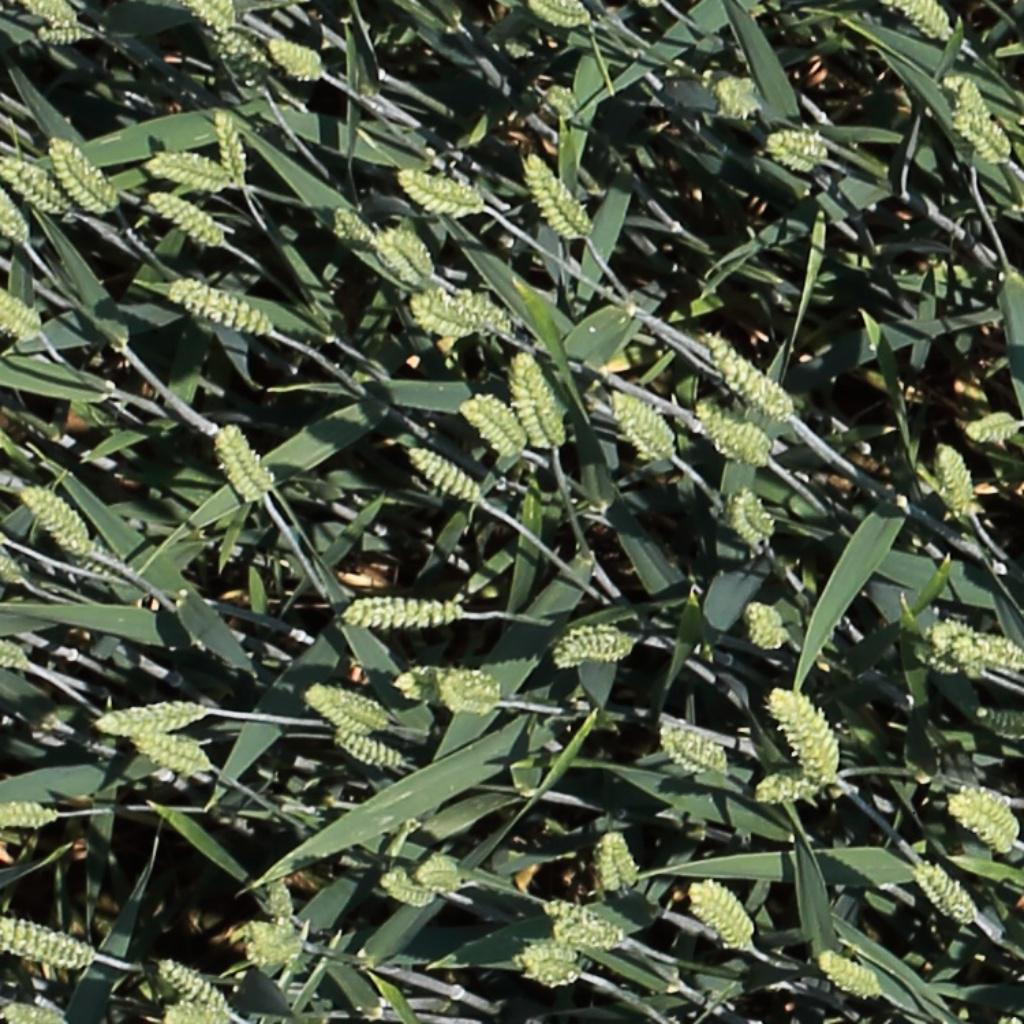0-0: (703, 326, 795, 421), (507, 348, 580, 453), (772, 685, 842, 786), (524, 148, 595, 241), (335, 588, 454, 643), (938, 780, 1022, 857), (0, 909, 96, 973), (47, 133, 120, 214), (169, 278, 273, 334), (293, 672, 387, 731), (544, 901, 638, 960), (95, 695, 210, 742), (194, 13, 270, 84), (215, 420, 277, 503), (692, 875, 759, 951), (545, 617, 635, 672), (650, 716, 727, 780), (392, 164, 482, 218), (434, 660, 505, 727), (449, 281, 519, 348), (696, 401, 772, 461), (147, 187, 225, 245), (912, 860, 978, 928), (932, 622, 1022, 671), (611, 391, 677, 457), (408, 446, 484, 503), (21, 486, 92, 547), (0, 155, 72, 214), (157, 959, 230, 1014), (68, 542, 141, 597), (245, 922, 313, 981), (598, 825, 652, 899), (458, 394, 523, 454), (512, 933, 584, 985), (402, 289, 470, 343), (760, 120, 830, 172), (935, 436, 978, 520), (953, 105, 1010, 167), (267, 38, 336, 88), (210, 101, 248, 188), (819, 950, 887, 998), (131, 733, 208, 775), (0, 789, 69, 834), (331, 729, 406, 770), (377, 856, 436, 907), (379, 226, 431, 283), (708, 74, 766, 125), (751, 770, 827, 808), (957, 403, 1021, 448), (0, 159, 32, 248), (523, 0, 602, 36), (733, 484, 776, 550), (392, 658, 443, 713), (147, 154, 234, 185), (537, 77, 588, 129), (892, 0, 954, 42), (330, 202, 380, 251), (941, 68, 990, 116), (0, 285, 43, 339), (745, 603, 791, 651), (36, 21, 101, 54), (413, 851, 464, 893), (0, 629, 39, 681), (265, 871, 298, 931), (17, 0, 77, 32), (0, 997, 69, 1024), (974, 707, 1024, 737), (189, 0, 234, 32), (164, 1003, 226, 1021), (0, 546, 27, 587)
